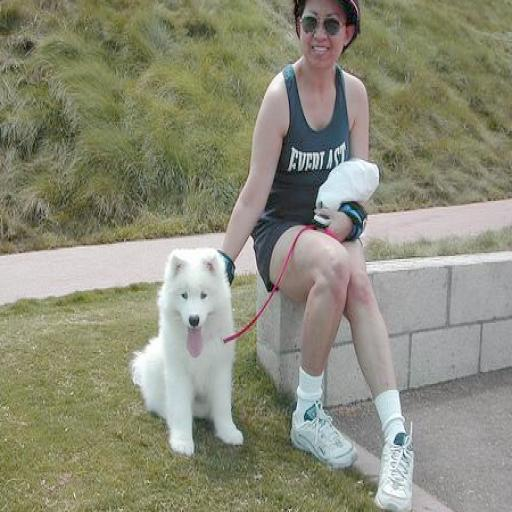dog_face: (155, 244, 226, 350)
